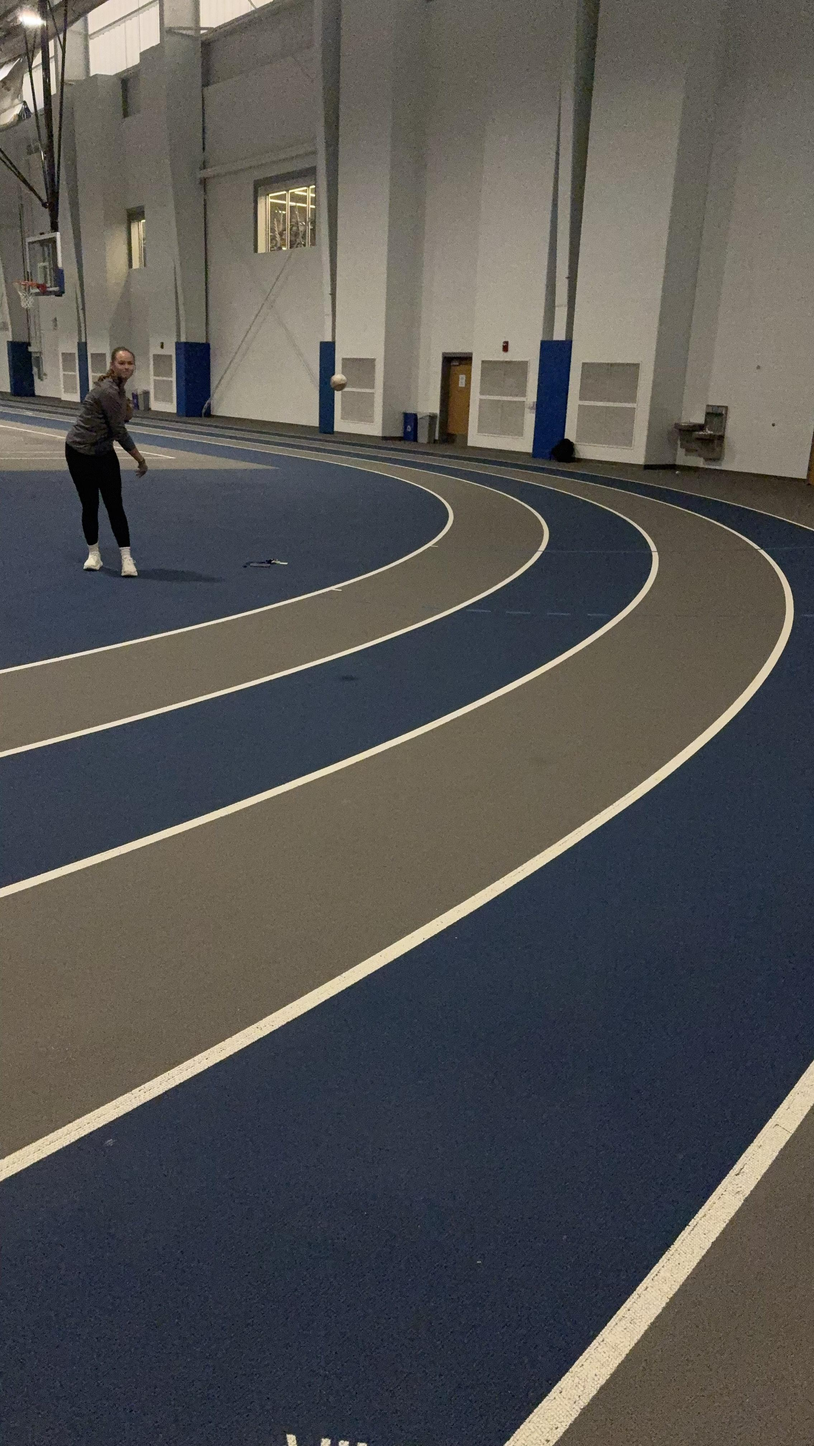Baseball: (326, 373, 350, 391)
